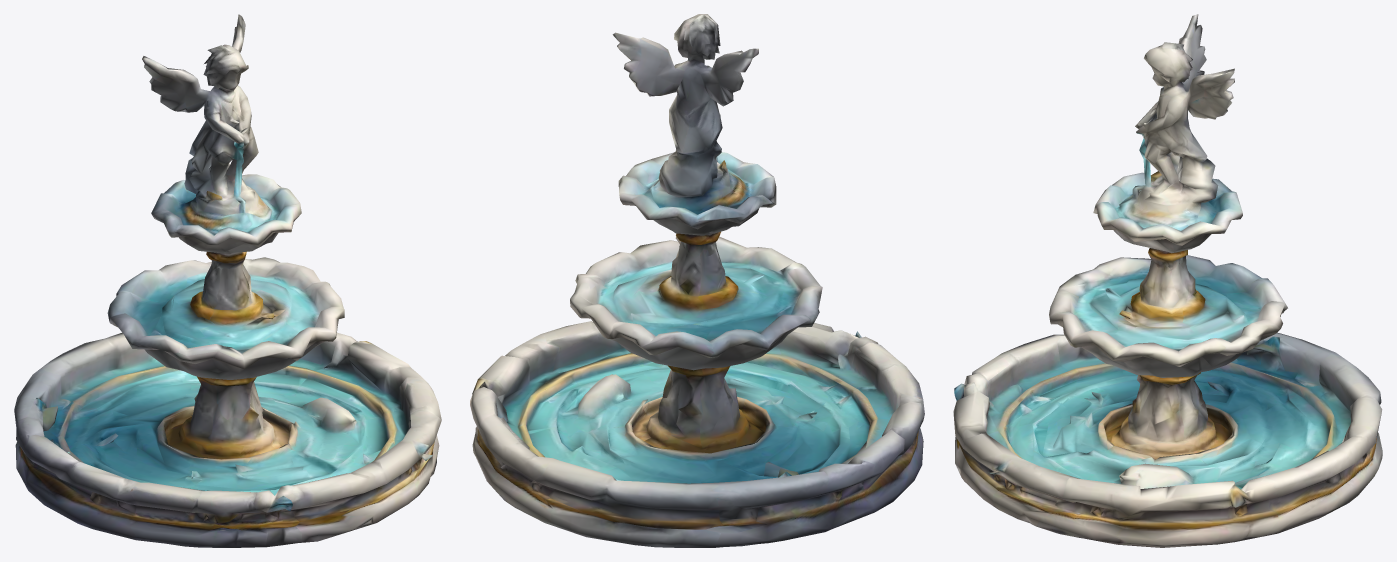
File: angelfountain.glb
The picture shows the model from 3 angles, left to right: view 1: azimuth 30°, elevation 25°; view 2: azimuth 150°, elevation 25°; view 3: azimuth 270°, elevation 25°; orthographic projection. The views are drawn at different scales.
Parts seen in each view (by area): view 1: tripo_node_77a3b951-bb73-4407-b425-b177ddfd07ee; view 2: tripo_node_77a3b951-bb73-4407-b425-b177ddfd07ee; view 3: tripo_node_77a3b951-bb73-4407-b425-b177ddfd07ee.
Boxes of the visible parts, box(x1,y1,x2,y2) form: tripo_node_77a3b951-bb73-4407-b425-b177ddfd07ee: box(14, 14, 441, 547); tripo_node_77a3b951-bb73-4407-b425-b177ddfd07ee: box(470, 14, 924, 547); tripo_node_77a3b951-bb73-4407-b425-b177ddfd07ee: box(953, 14, 1382, 547).
Bounding box in the file's own units: 0.9384 × 0.9999 × 0.9357.
Materials: 1 (1 with a texture image).
